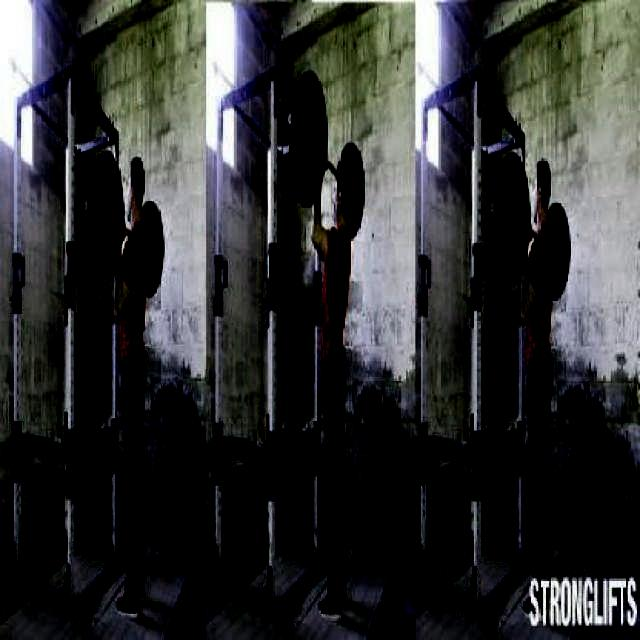barbell: (283, 65, 330, 210), (81, 150, 128, 287), (487, 151, 532, 292)
